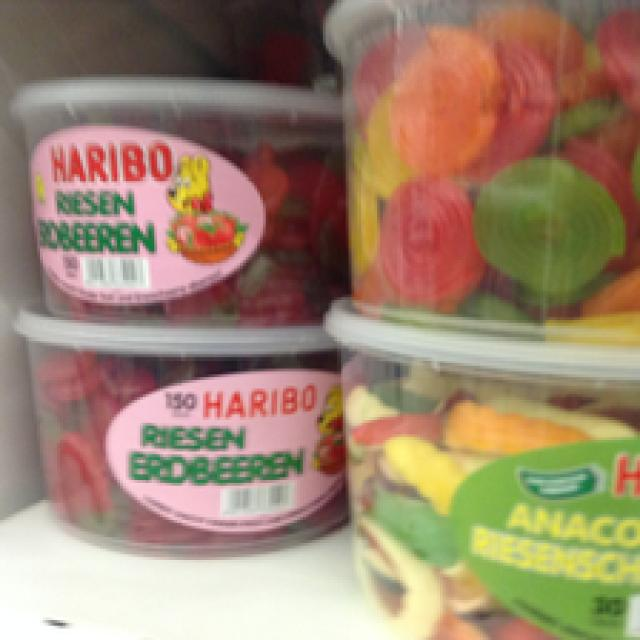groceries: (308, 0, 637, 334), (317, 297, 634, 637), (0, 305, 354, 554), (8, 72, 343, 317)
